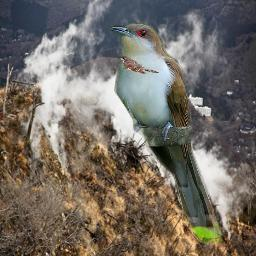Cuckoo: (109, 22, 223, 244), (117, 55, 159, 75)
